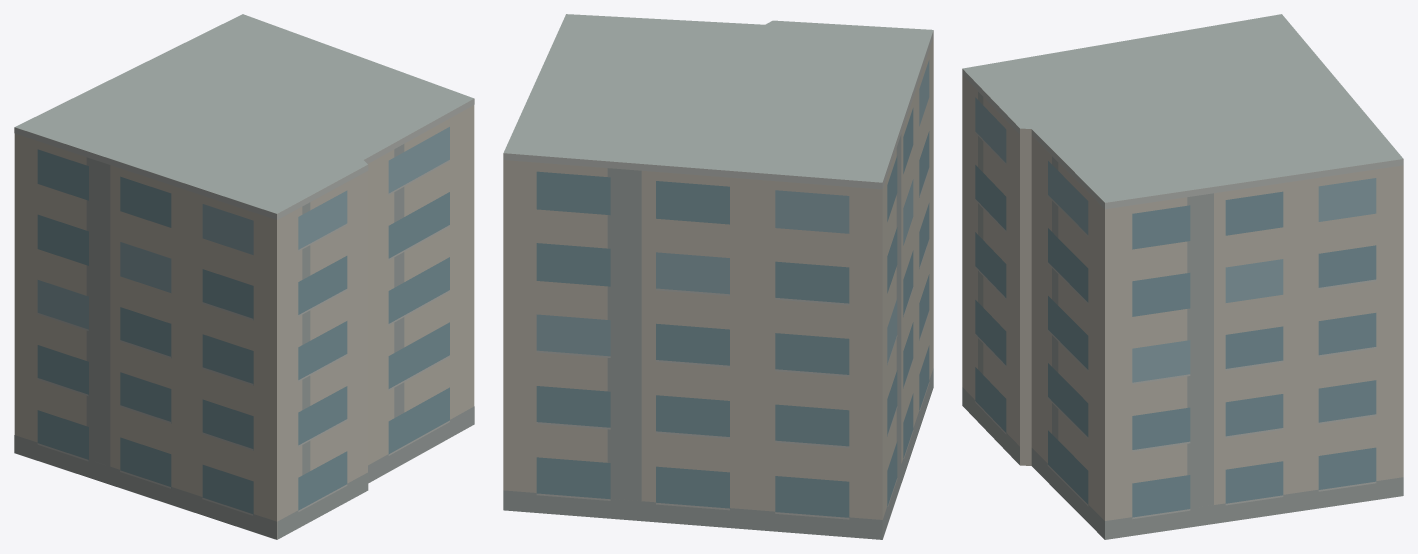
The model's file is survey-upis-32861134.glb.
3 renders of one model, left to right at view 1: azimuth 30°, elevation 25°; view 2: azimuth 150°, elevation 25°; view 3: azimuth 270°, elevation 25°, orthographic. The views are drawn at different scales.
Parts seen in each view (by area): view 1: survey-upis-32861134.tmp; view 2: survey-upis-32861134.tmp; view 3: survey-upis-32861134.tmp.
Boxes of the visible parts, box(x1,y1,x2,y2) form: survey-upis-32861134.tmp: box(14, 14, 474, 539); survey-upis-32861134.tmp: box(503, 14, 933, 539); survey-upis-32861134.tmp: box(962, 14, 1403, 539).
Size of the model in its own units: 15.4 by 12.8 by 15.2.
